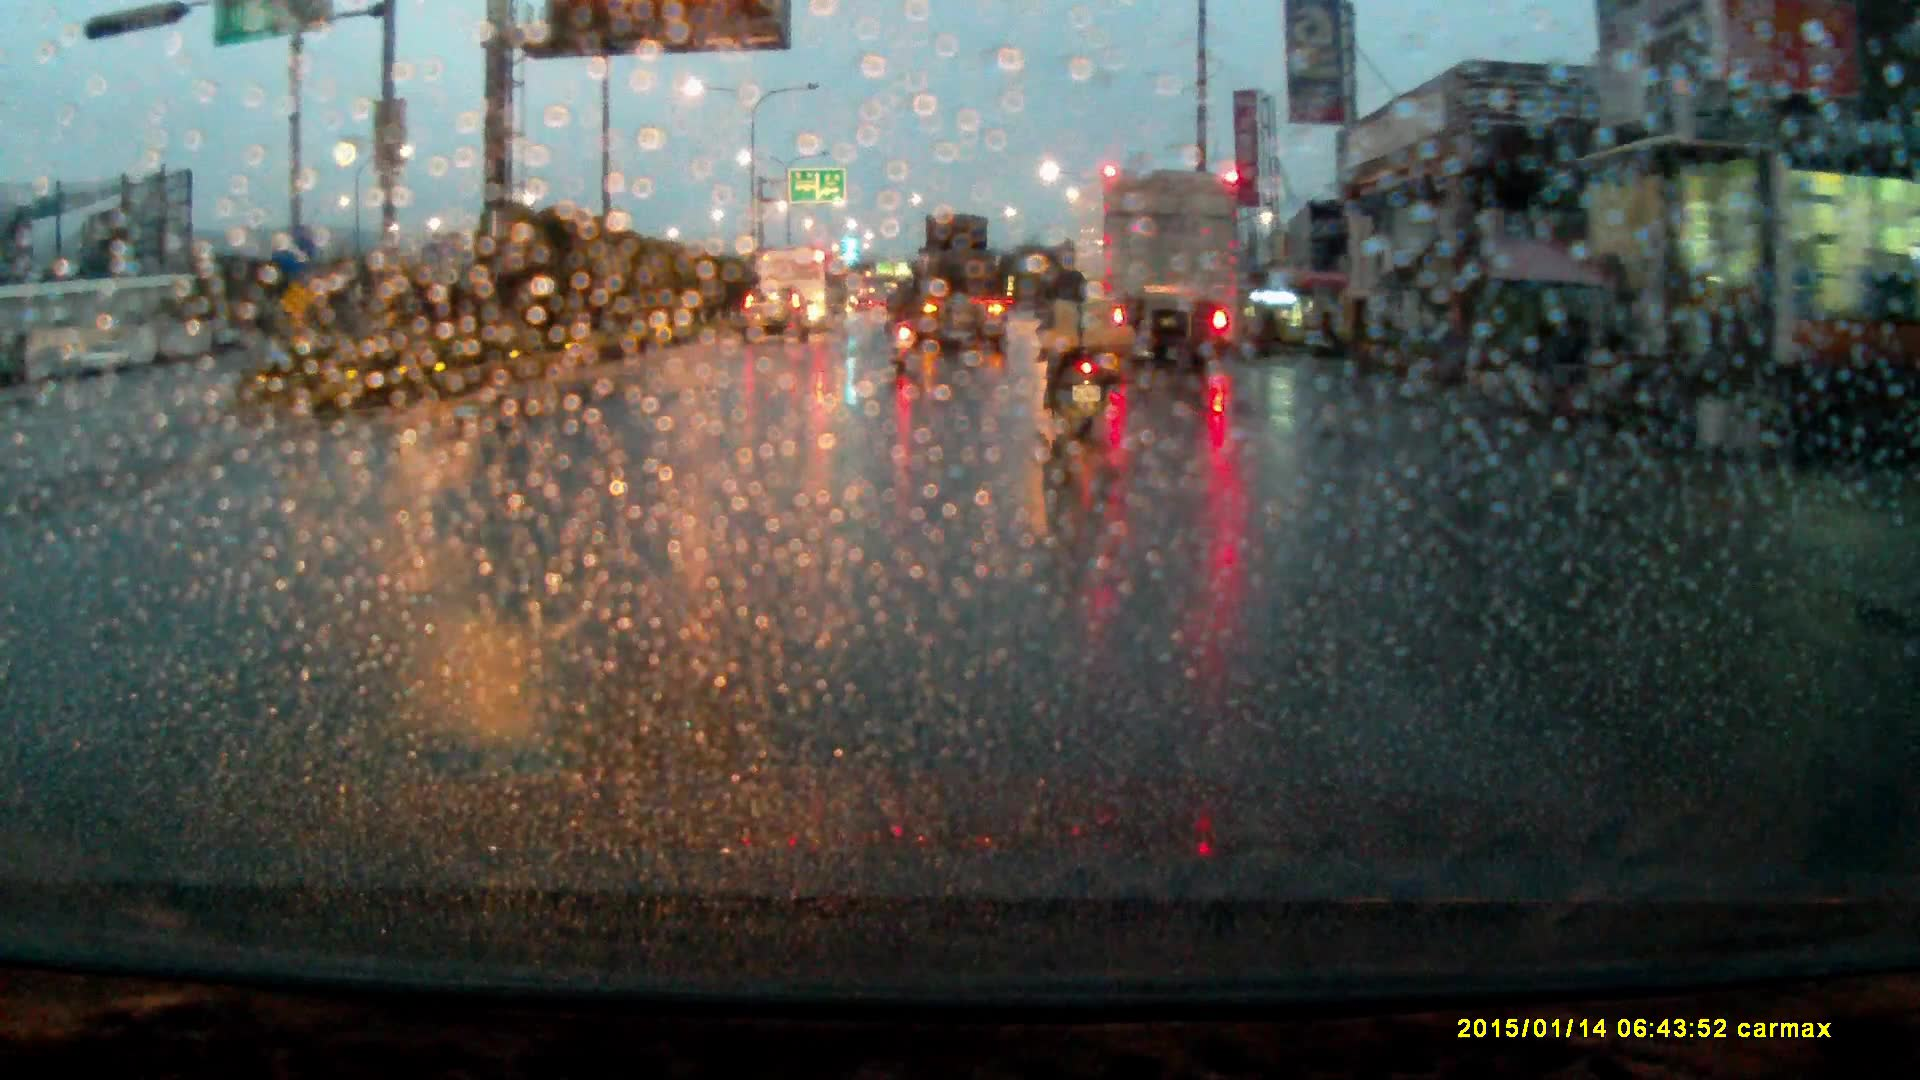rider: (1038, 261, 1122, 440), (890, 268, 927, 366)
vehicle: (1072, 168, 1248, 370), (899, 213, 1001, 361), (770, 244, 845, 327), (743, 285, 815, 351)
